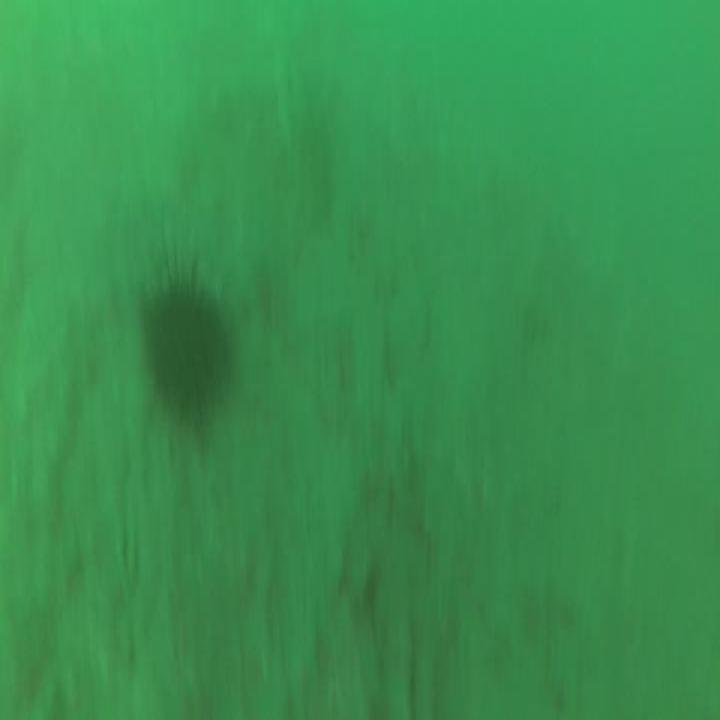echinus: (145, 288, 227, 423)
